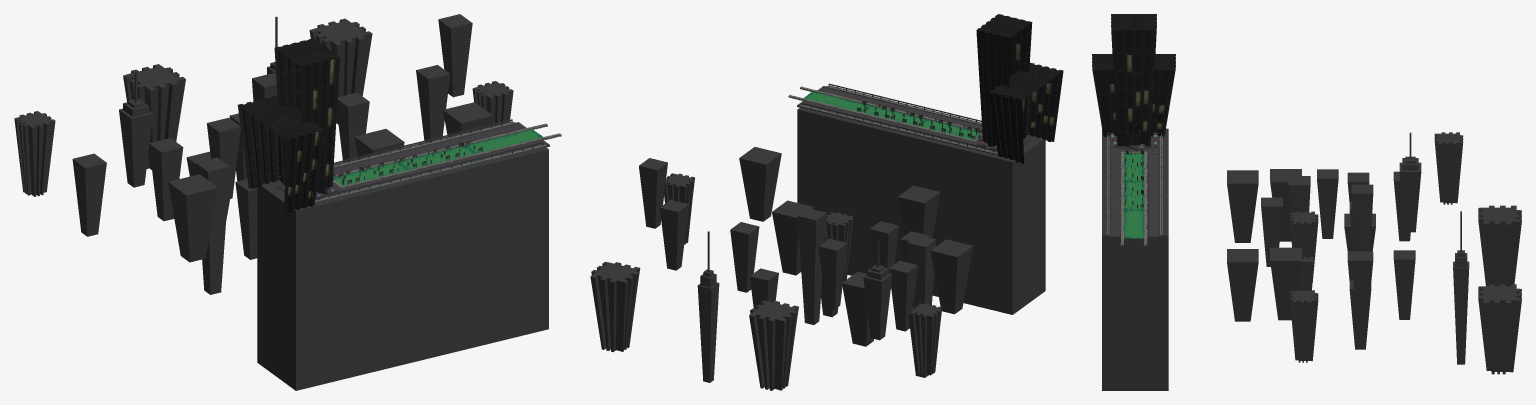
The picture shows the model from 3 angles, left to right: view 1: azimuth 30°, elevation 25°; view 2: azimuth 150°, elevation 25°; view 3: azimuth 270°, elevation 25°; orthographic projection. The views are drawn at different scales.
Parts seen in each view (by area): view 1: Cube.029, Cube.012, Cube.004, Cube.026, Cube.028, Cube.040, Cube.024, Cube.043, Cube.022, Cube.027, Cube.034, Cube.002 (+16 smaller); view 2: Cube.029, Cube.012, Cube.004, Cube.028, Cube.040, Cube.018, Cube.033, Cube.026, Cube.041, Cube.024, Cube.022, Cube.038 (+18 smaller); view 3: Cube.029, Cube.004, Cube.040, Cube.012, Cube.028, Cube.017, Cube.033, Cube.038, Cube.024, Cube.002, Cube.037, Cube (+15 smaller).
Part boxes in pixels (x1,y1,x2,y2): Cube.029: (257, 121, 548, 390); Cube.012: (237, 95, 324, 214); Cube.004: (274, 38, 339, 193); Cube.026: (168, 174, 217, 262); Cube.028: (123, 64, 185, 169); Cube.040: (309, 18, 372, 124); Cube.024: (14, 111, 55, 196); Cube.043: (195, 157, 229, 294); Cube.022: (119, 71, 153, 187); Cube.027: (72, 153, 106, 236); Cube.034: (438, 14, 472, 97); Cube.002: (334, 129, 542, 185); Cube.029: (797, 85, 1045, 314); Cube.012: (989, 63, 1063, 163); Cube.004: (976, 14, 1032, 146); Cube.028: (749, 300, 798, 390); Cube.040: (590, 261, 640, 352); Cube.018: (797, 208, 826, 324); Cube.033: (739, 147, 781, 221); Cube.026: (930, 239, 972, 314); Cube.041: (697, 231, 719, 382); Cube.024: (910, 303, 942, 375); Cube.022: (863, 241, 892, 340); Cube.038: (772, 200, 814, 275); Cube.029: (1102, 128, 1168, 390); Cube.004: (1111, 14, 1156, 146); Cube.040: (1478, 284, 1521, 374); Cube.012: (1092, 54, 1175, 136); Cube.028: (1478, 205, 1521, 286); Cube.017: (1227, 170, 1258, 242); Cube.033: (1227, 249, 1258, 321); Cube.038: (1270, 247, 1301, 320); Cube.024: (1434, 132, 1463, 204); Cube.002: (1124, 153, 1144, 238); Cube.037: (1290, 290, 1318, 362); Cube: (1109, 136, 1160, 205).
Size of the model in its own units: 16979 by 12795 by 18143.
